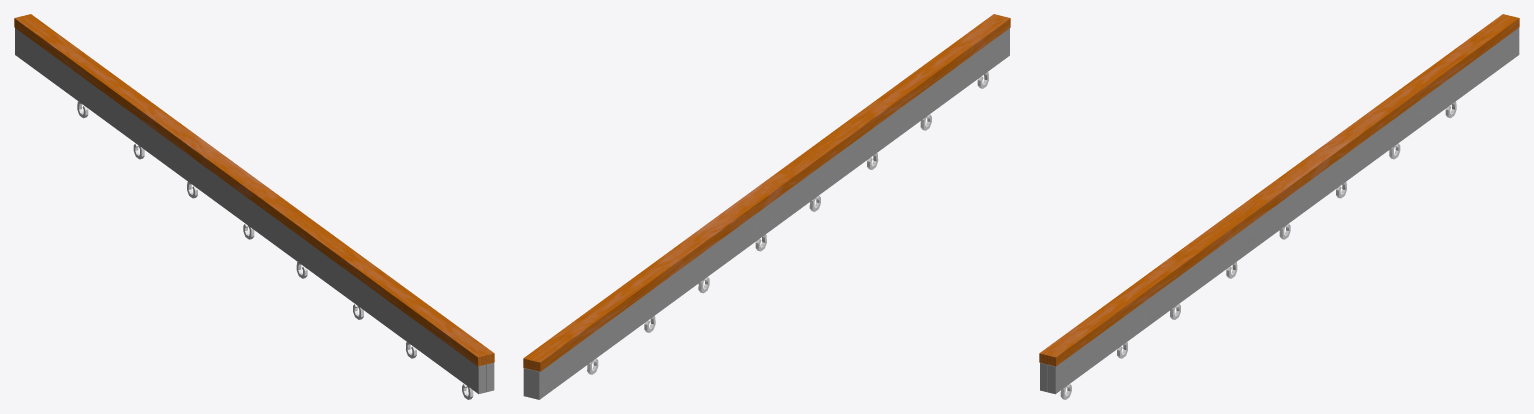
Rendered from Swing 4 positions attachment.glb.
3 renders of one model, left to right at view 1: azimuth 30°, elevation 25°; view 2: azimuth 150°, elevation 25°; view 3: azimuth 330°, elevation 25°, orthographic.
Visible parts, largest first — view 1: Swing 4 positions attachment; view 2: Swing 4 positions attachment; view 3: Swing 4 positions attachment.
Boxes of the visible parts, <box> form: Swing 4 positions attachment: <box>14,14,494,399</box>; Swing 4 positions attachment: <box>523,14,1010,399</box>; Swing 4 positions attachment: <box>1039,14,1519,399</box>.
Bounding box in the file's own units: 0.1104 × 0.3563 × 5.3.
Materials: 1 (1 with a texture image).
